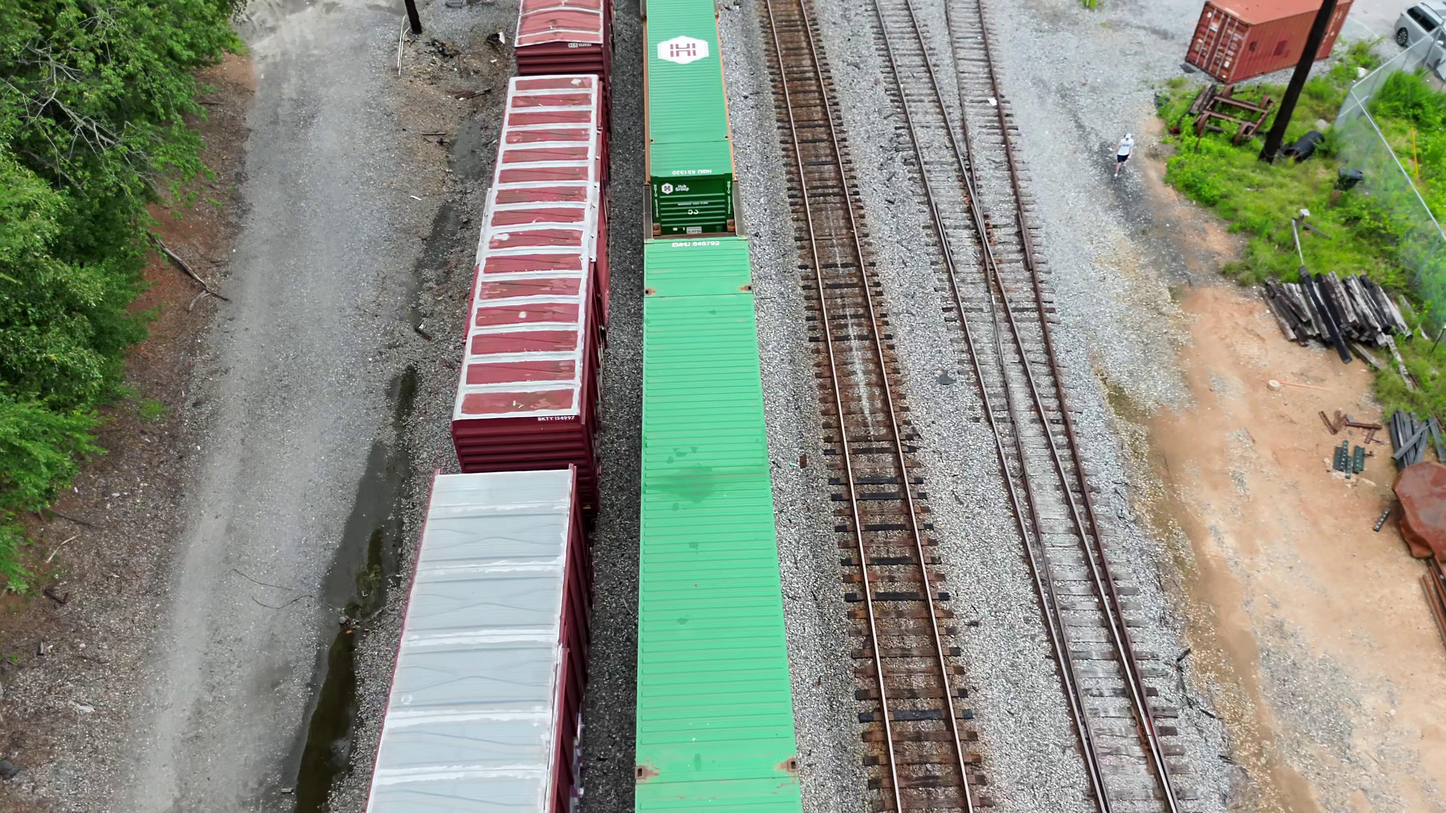human: (1113, 132, 1135, 180)
